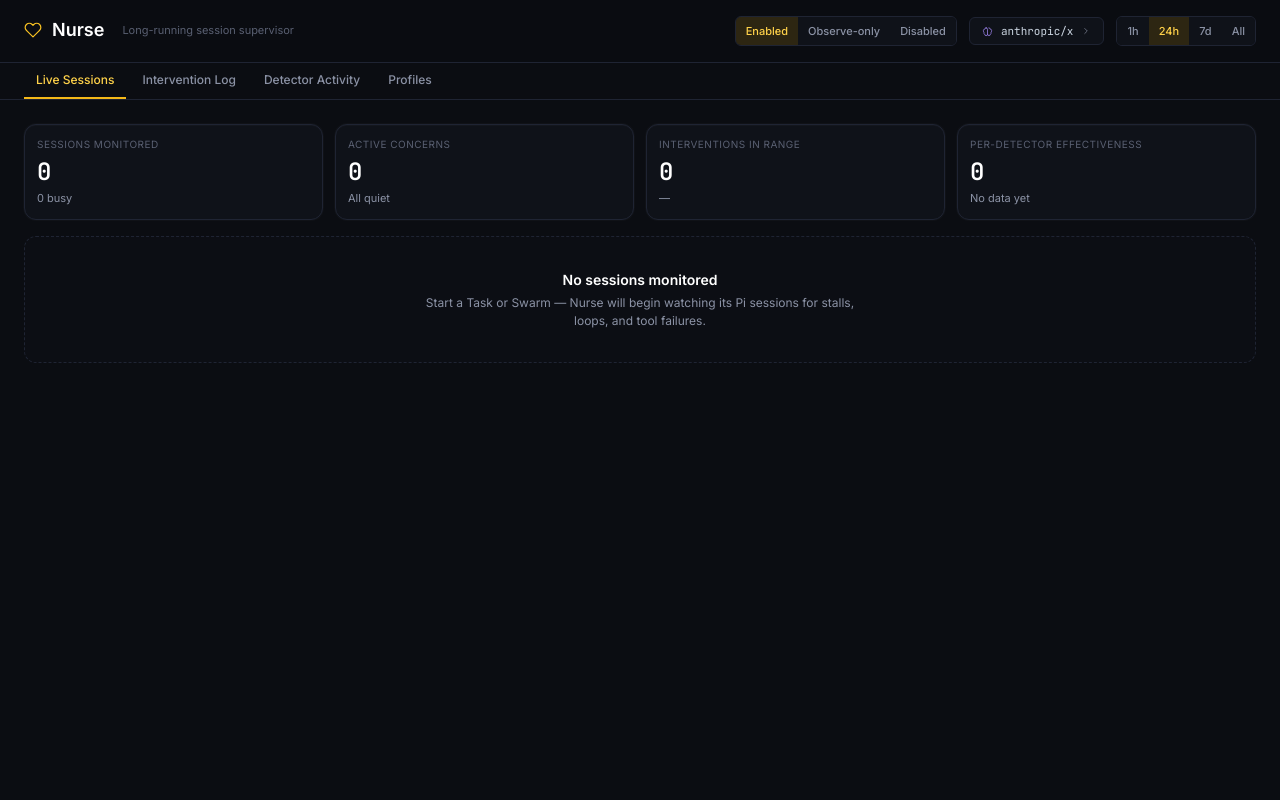
Test: Nurse screen tab routing › switches to the Profiles tab and shows the per-profile sub-tabs
The width and height of the screenshot is (1280, 800).
Step 1. Click the tab with test id "nurse-tab-profiles" → click(410, 81), box left=376, top=63, right=444, bottom=99
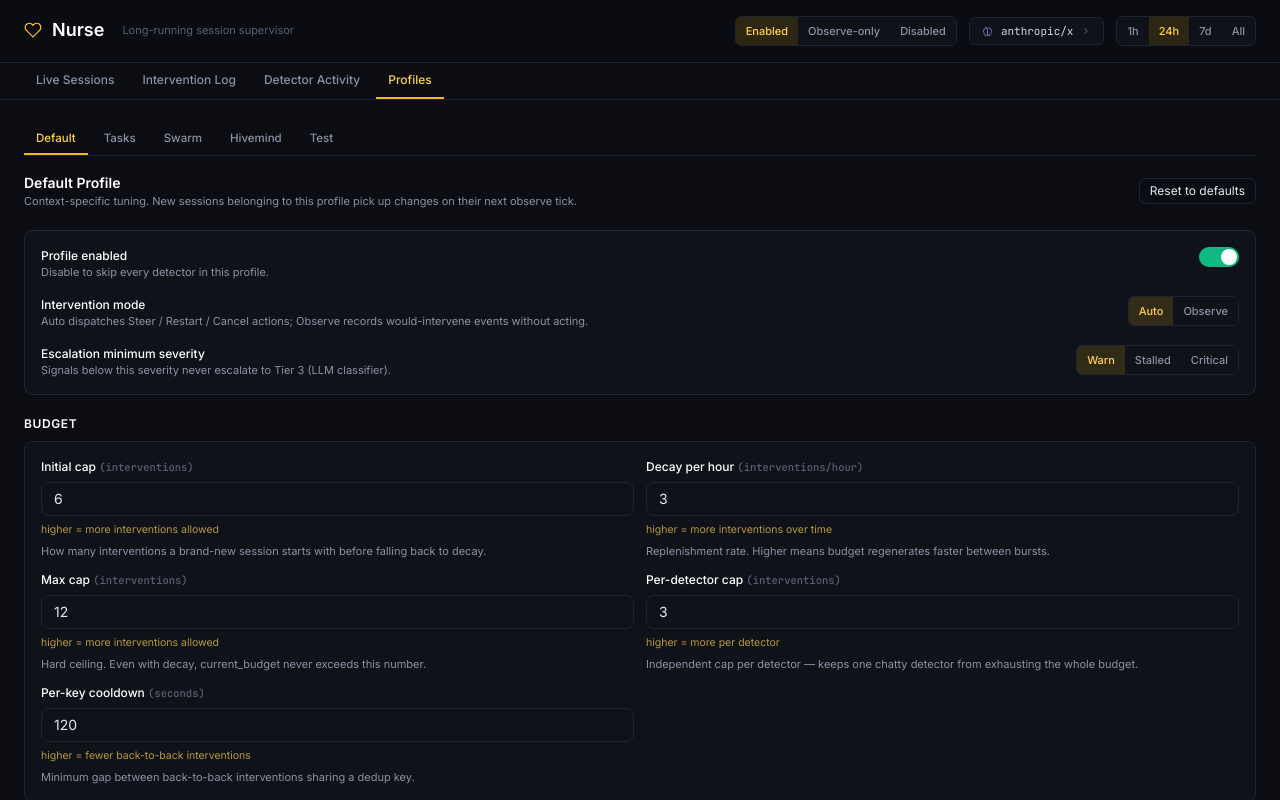
Expected: the button "swarm" is shown, left=152, top=124, right=214, bottom=155
Result: the button "tasks" is shown at left=92, top=124, right=148, bottom=155
Result: the button "hivemind" is shown at left=218, top=124, right=294, bottom=155
